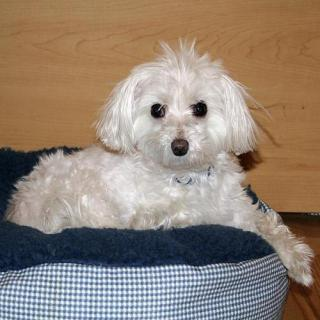dog: (98, 39, 262, 187)
nose: (167, 134, 192, 159)
